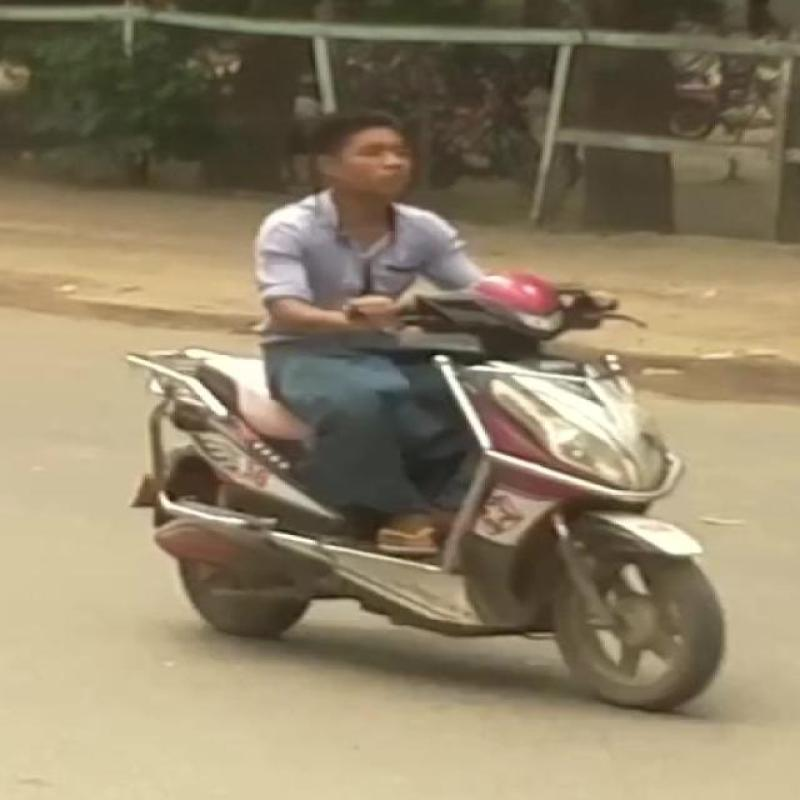nohelmet: (288, 90, 472, 218)
